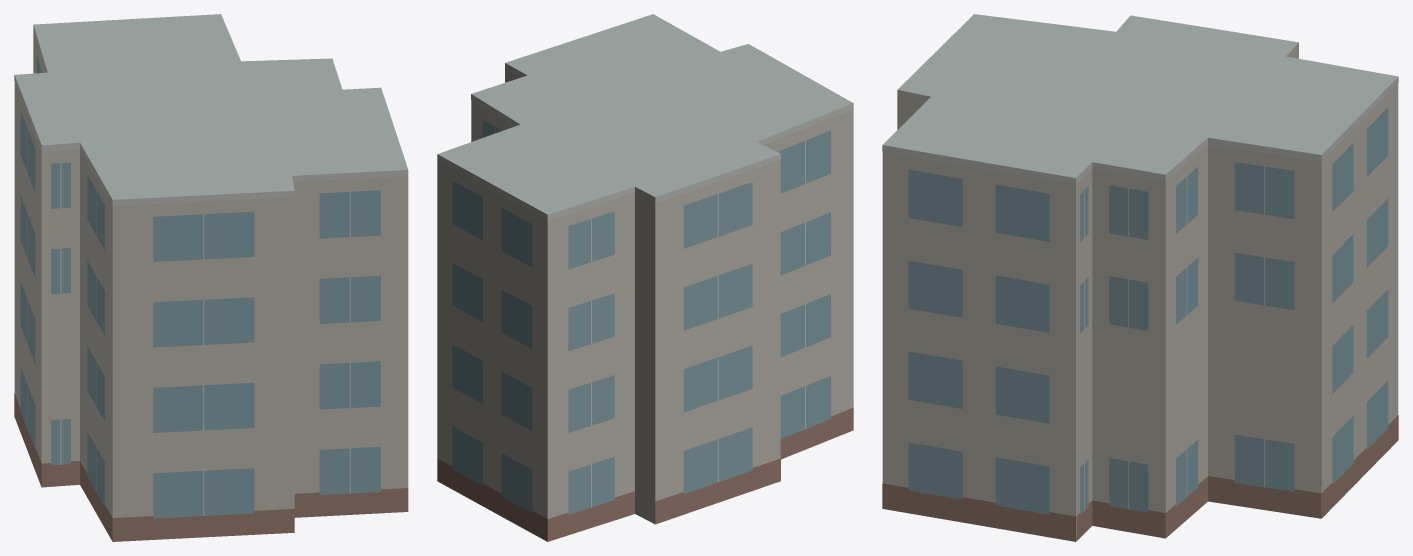
File: survey-upis-32526409.glb
3 renders of one model, left to right at view 1: azimuth 30°, elevation 25°; view 2: azimuth 150°, elevation 25°; view 3: azimuth 270°, elevation 25°, orthographic. The views are drawn at different scales.
Visible parts, largest first — view 1: survey-upis-32526409.tmp; view 2: survey-upis-32526409.tmp; view 3: survey-upis-32526409.tmp.
Part boxes in pixels (<box>): survey-upis-32526409.tmp: <box>14,14,408,541</box>; survey-upis-32526409.tmp: <box>437,14,853,541</box>; survey-upis-32526409.tmp: <box>882,14,1398,541</box>.
Size of the model in its own units: 13.11 by 13.53 by 17.41.
